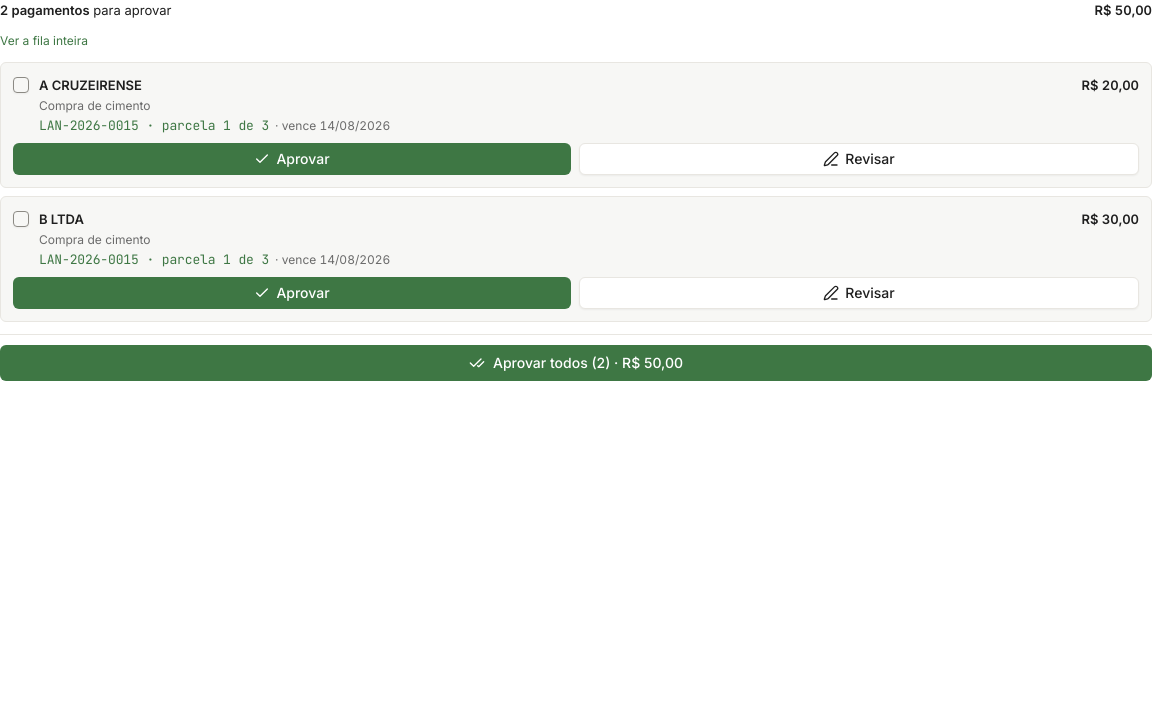
Test: FilaAprovacao no celular › no link, oferece aprovar o recorte inteiro e abre o modal do lote
Click the button "Aprovar todos (2) · R$ 50,00": [576, 363] box x1=0 y1=345 x2=1151 y2=381
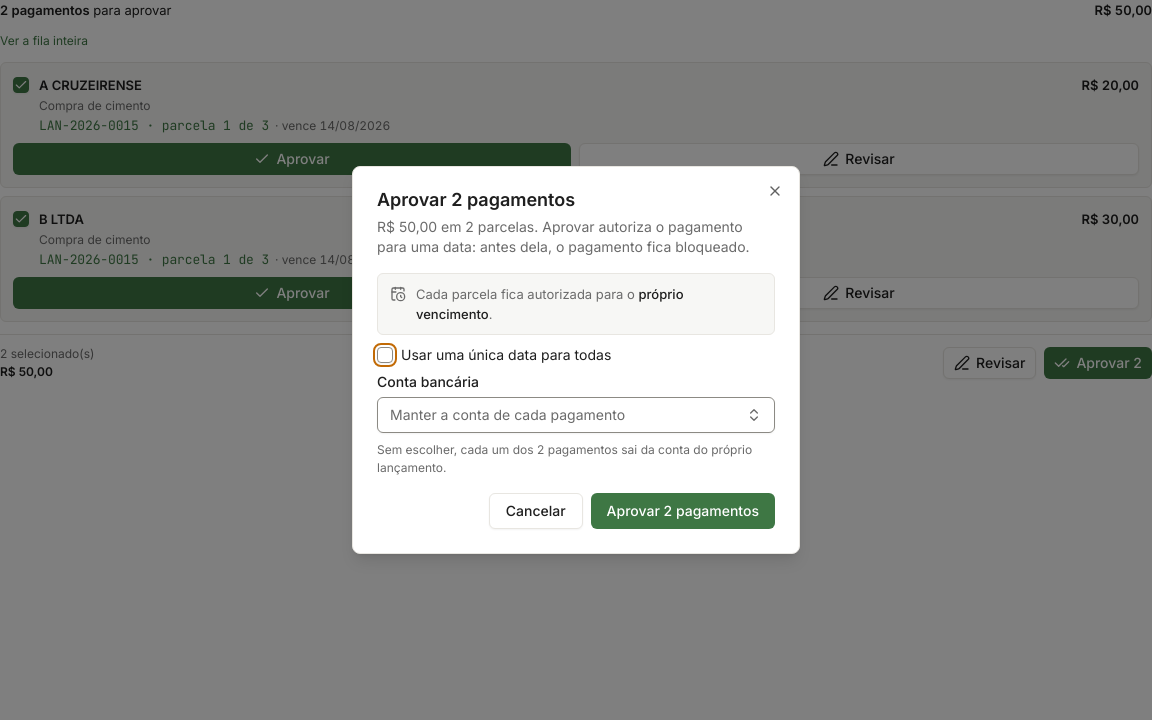
Now the heading "Aprovar 2 pagamentos" is shown, box x1=377 y1=189 x2=575 y2=210
